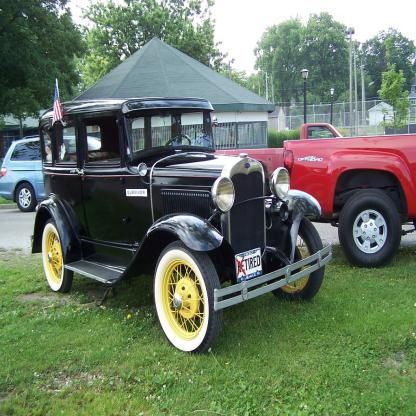Car: (32, 97, 332, 353), (0, 134, 133, 213)
Truck: (29, 102, 333, 354), (215, 124, 415, 269)
